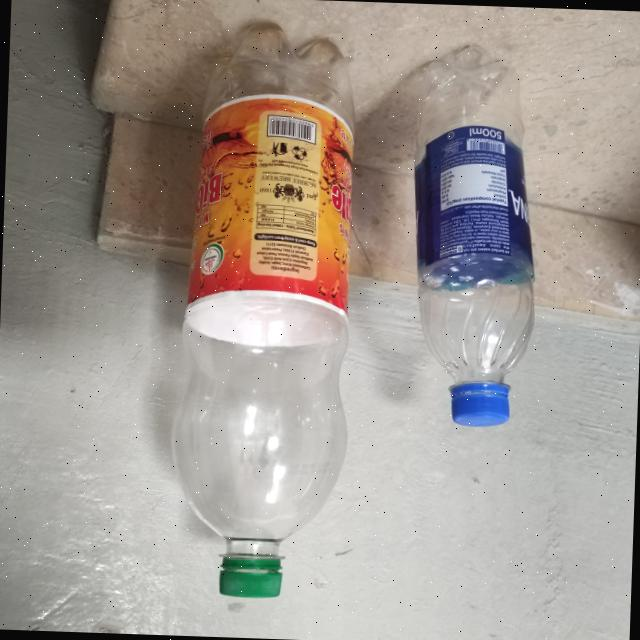bottle: (165, 31, 361, 606), (402, 49, 542, 432)
cap: (216, 545, 282, 600), (445, 377, 511, 427)
label: (186, 91, 348, 315), (409, 134, 530, 271)
